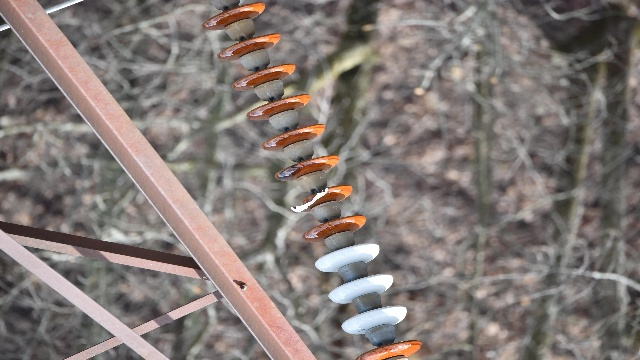broken_local: (289, 186, 330, 213)
insulator_unspecified: (202, 3, 424, 358)
